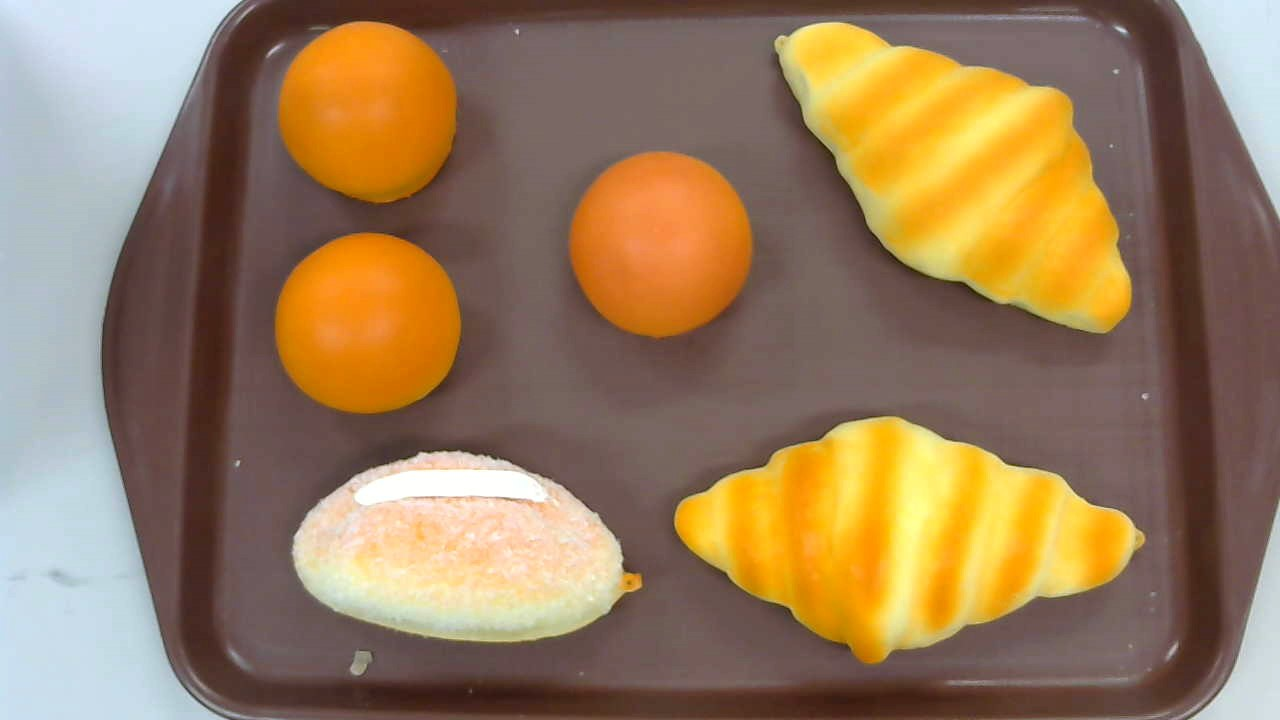bun: (273, 231, 461, 415), (569, 152, 752, 337), (279, 20, 457, 202)
coconut: (290, 451, 644, 643)
croissant: (673, 412, 1146, 665), (773, 22, 1131, 336)
